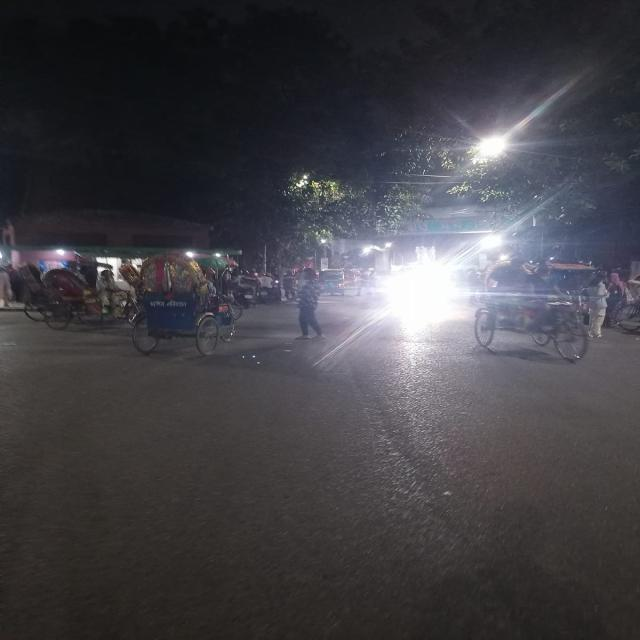person: (296, 268, 324, 340)
